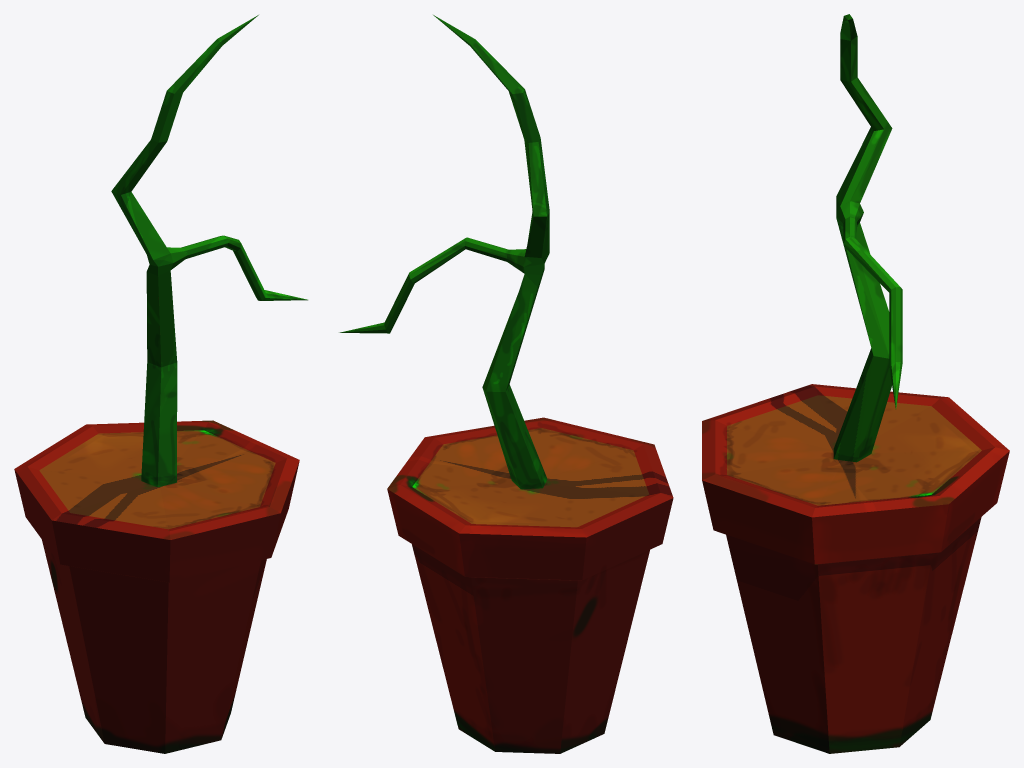
3 views of the same model, side by side, from view 1: azimuth 30°, elevation 25°; view 2: azimuth 150°, elevation 25°; view 3: azimuth 270°, elevation 25° (orthographic). The views are drawn at different scales.
Parts seen in each view (by area): view 1: polant; view 2: polant; view 3: polant.
Boxes of the visible parts, x1,y1,x2,y2 form: polant: (14, 15, 307, 753); polant: (339, 15, 673, 753); polant: (702, 14, 1009, 753).
Size of the model in its own units: 256 by 565 by 209.
Materials: 1 (1 with a texture image).
